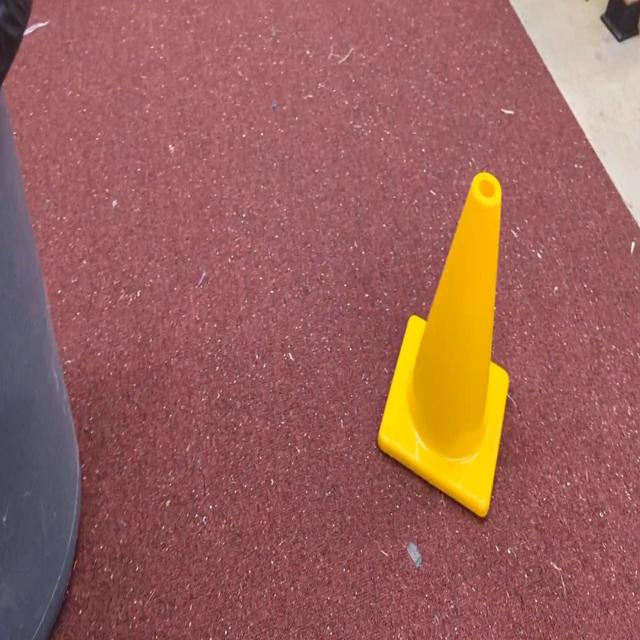frc_cone: (377, 166, 512, 526)
